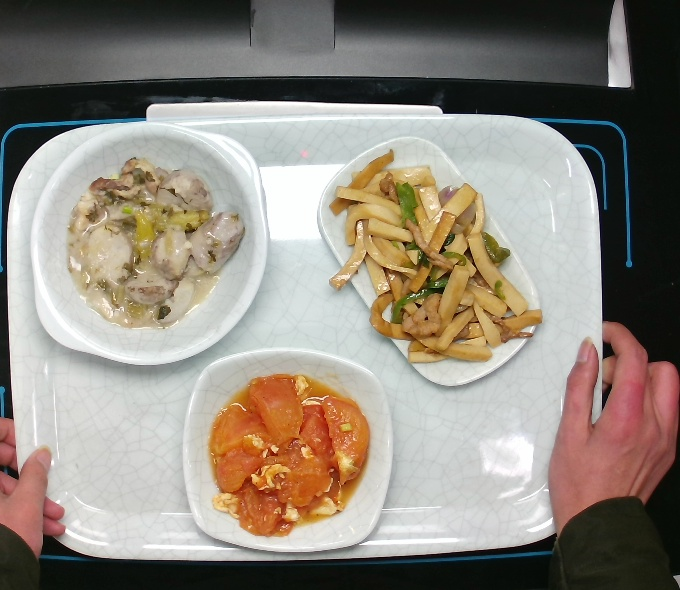wcq-FanQieChaoDan: (199, 367, 371, 544)
wcq-QianYeDouFu: (313, 145, 546, 373)
wcq-YangYu: (50, 153, 247, 336)
